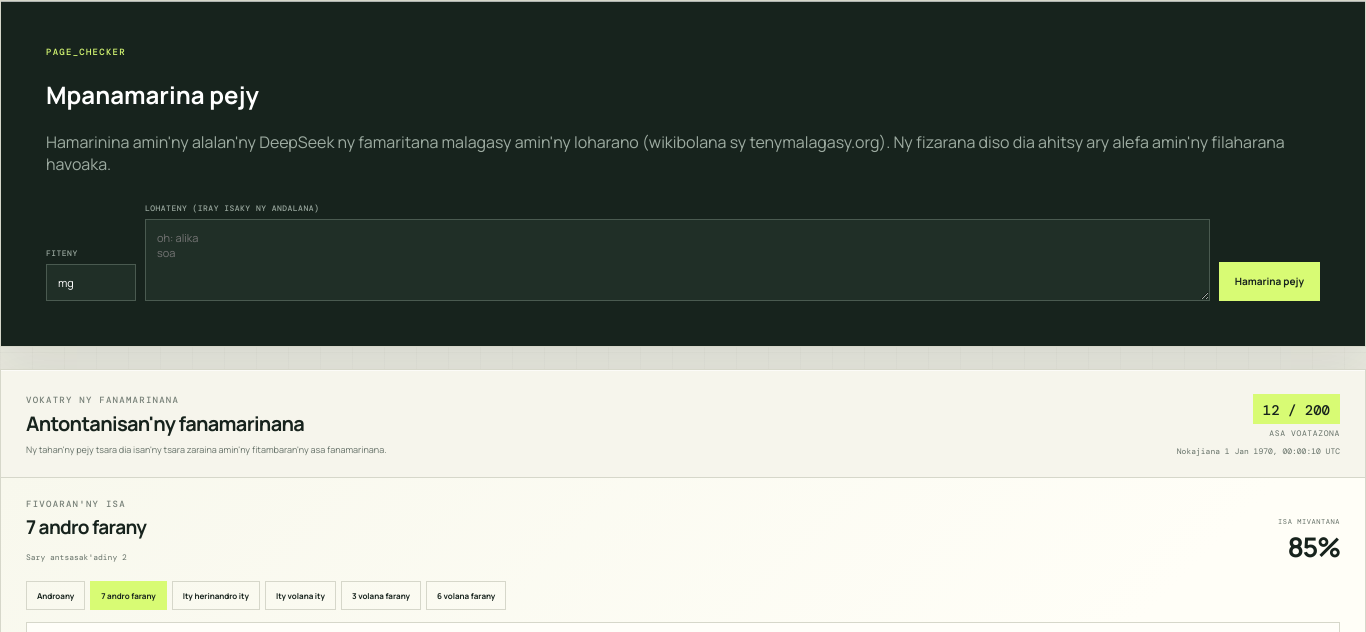
Scenario: PageCheckWorkspace › plots half-hour score history and switches among the existing periods
Expected: the text "85%" is shown, [1287, 528, 1340, 565]
Click the button "Androany" at (56, 596), box [26, 581, 85, 610]
(page scrolled)
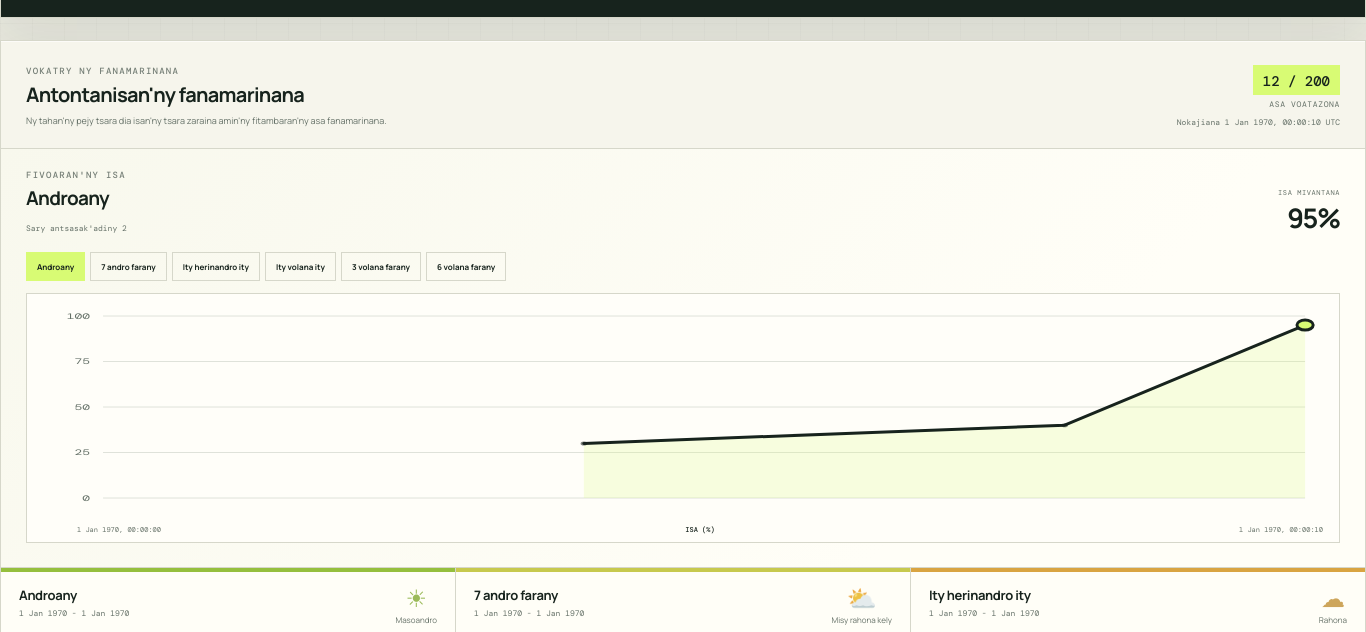
Expected: the picture "0 25 50 75 100" is shown, [35, 302, 1331, 522]
Expected: the heading "Androany" below "Fivoaran'ny isa" is shown, [26, 185, 109, 211]
Expected: the text "95%" in the row of "Sary antsasak'adiny 2" is shown, [1287, 199, 1340, 236]
